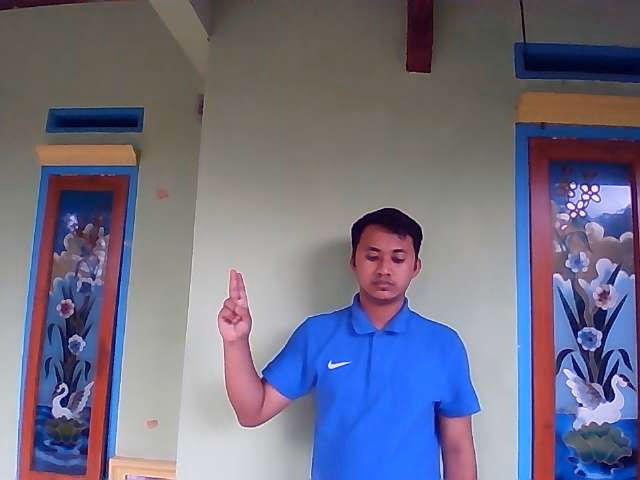U: (217, 268, 253, 341)
